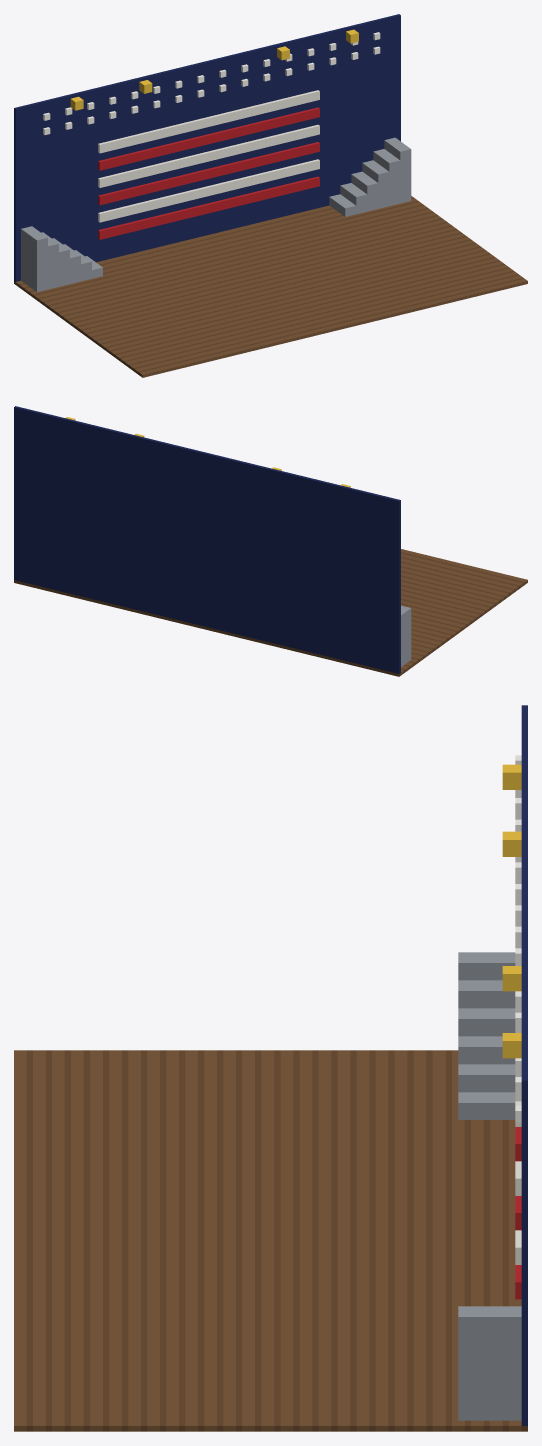
The model's file is rally.glb.
The picture shows the model from 3 angles, top to bottom: view 1: azimuth 30°, elevation 25°; view 2: azimuth 150°, elevation 25°; view 3: azimuth 270°, elevation 25°; orthographic projection. The views are drawn at different scales.
Parts seen in each view (by area): view 1: rally; view 2: rally; view 3: rally.
Boxes of the visible parts, box(x1,y1,x2,y2) form: rally: box(14, 14, 527, 377); rally: box(14, 406, 527, 676); rally: box(14, 705, 527, 1431).
Size of the model in its own units: 14 by 6.1 by 8.1.
1 material, 1 textured.
